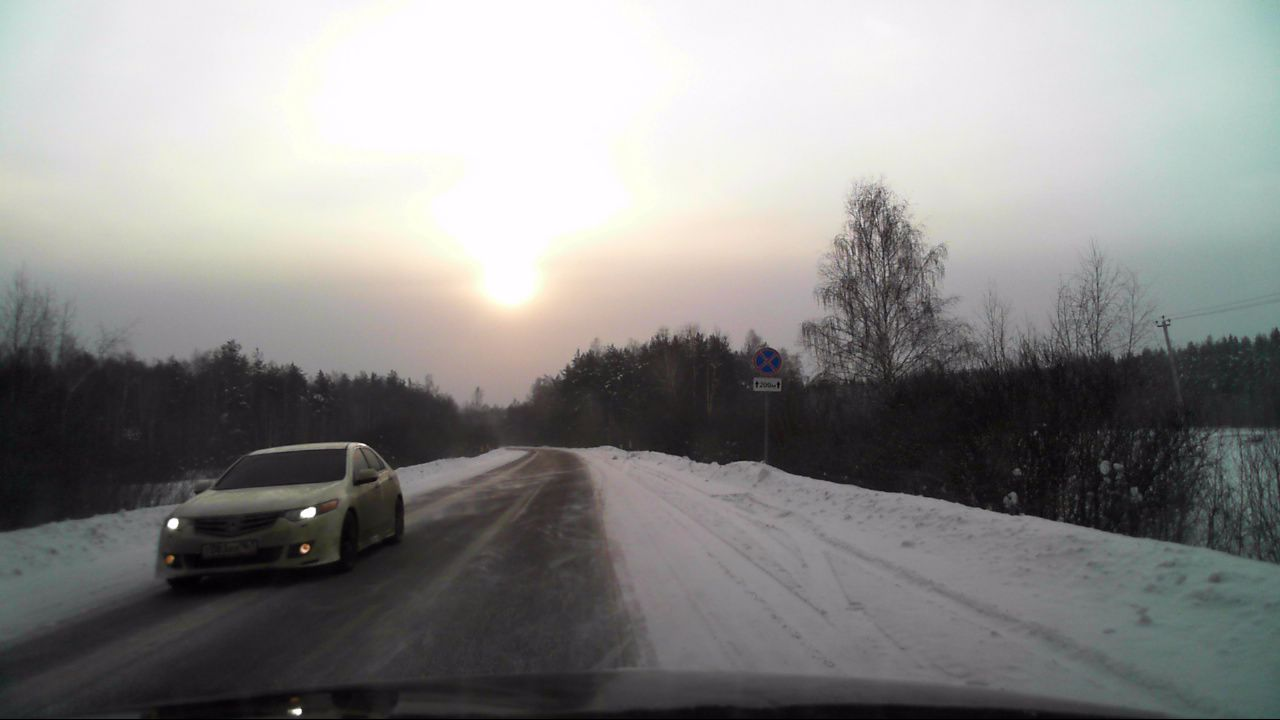No Parking: (751, 347, 781, 376)
